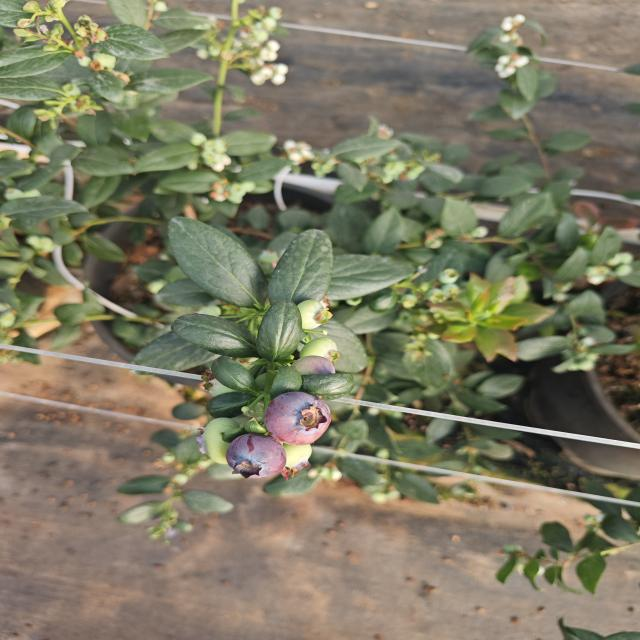ripe: (261, 390, 334, 448), (222, 432, 288, 482)
